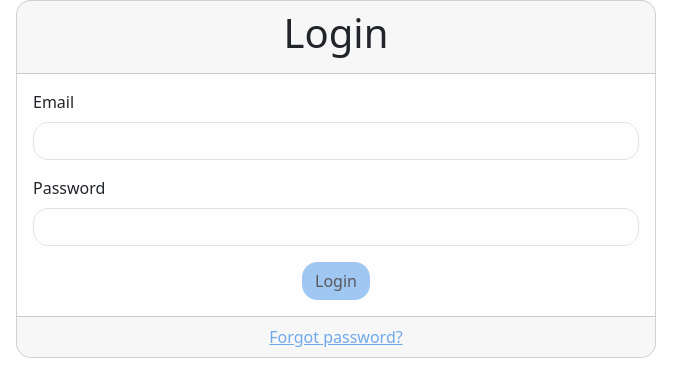
it: Login Page › when user sets same value for inputs › when user submits form › displays spinner
Type "user1@mail.com" into the field labelled "Email". click: coordinates (336, 141)
box: [33,122,639,160]
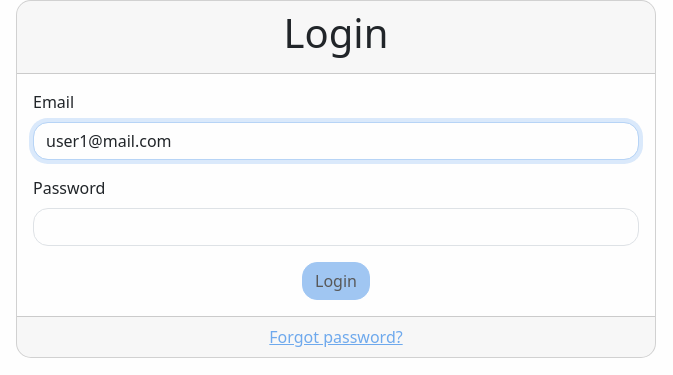
Type "P4ssword" into the password field labelled "Password". click: coordinates (336, 227)
box: [33,208,639,246]
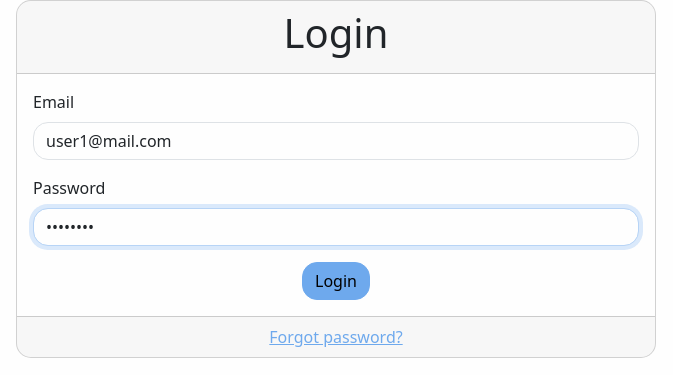
Click the button "Login". click: coordinates (336, 281)
box: [302,262,370,300]
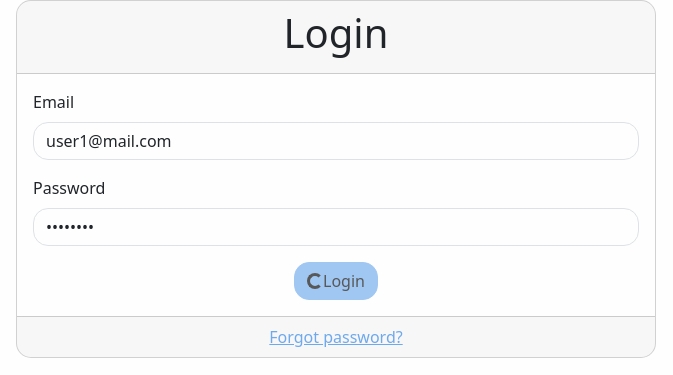
expect the message is shown: met, box [307,273,323,289]
